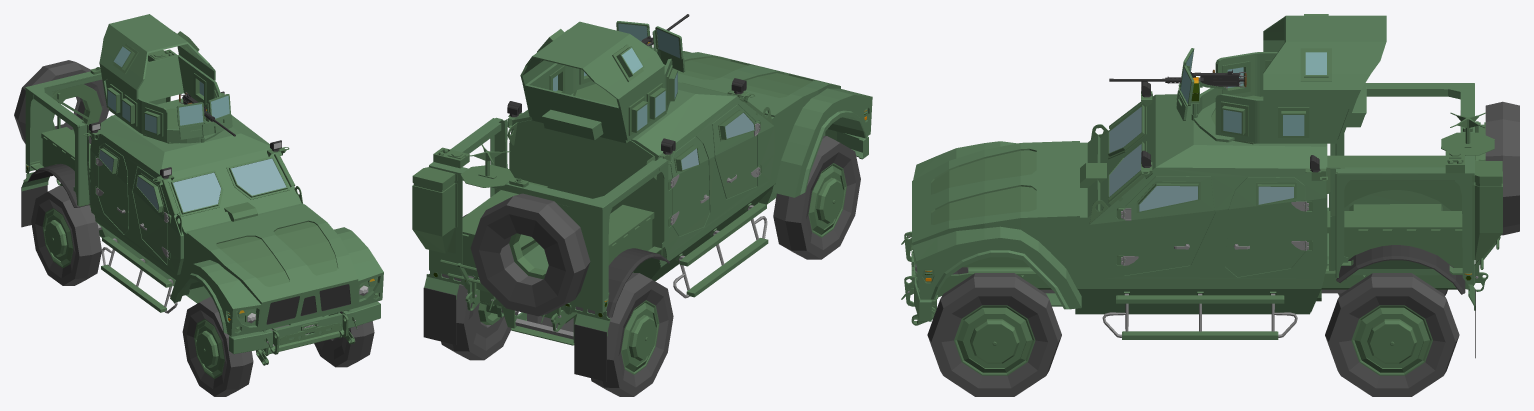
3 views of the same model, side by side, from view 1: azimuth 30°, elevation 25°; view 2: azimuth 150°, elevation 25°; view 3: azimuth 270°, elevation 25° (orthographic). The views are drawn at different scales.
Visible parts, largest first — view 1: Cube.002_4, Cube.003_6, Cube.006_9, Cube.005_8, Cube.004_7; view 2: Cube.002_4, Cube.003_6, Cube.005_8, Cube.006_9, Cube.007_10; view 3: Cube.002_4, Cube.003_6, Cube.004_7, Cube.007_10, Cube.001_5.
Part boxes in pixels (x1,y1,x2,y2): Cube.002_4: (14,49,383,365); Cube.003_6: (99,14,232,143); Cube.006_9: (31,186,101,285); Cube.005_8: (182,297,253,396); Cube.004_7: (314,309,374,367); Cube.002_4: (412,51,872,381); Cube.003_6: (520,21,685,143); Cube.005_8: (773,136,860,259); Cube.006_9: (591,273,673,396); Cube.007_10: (441,275,518,360); Cube.002_4: (901,81,1519,358); Cube.003_6: (1176,14,1386,143); Cube.004_7: (927,273,1061,396); Cube.007_10: (1325,273,1459,396); Cube.001_5: (1109,69,1246,103).
Size of the model in its own units: 1.05 by 1.59 by 2.74.
